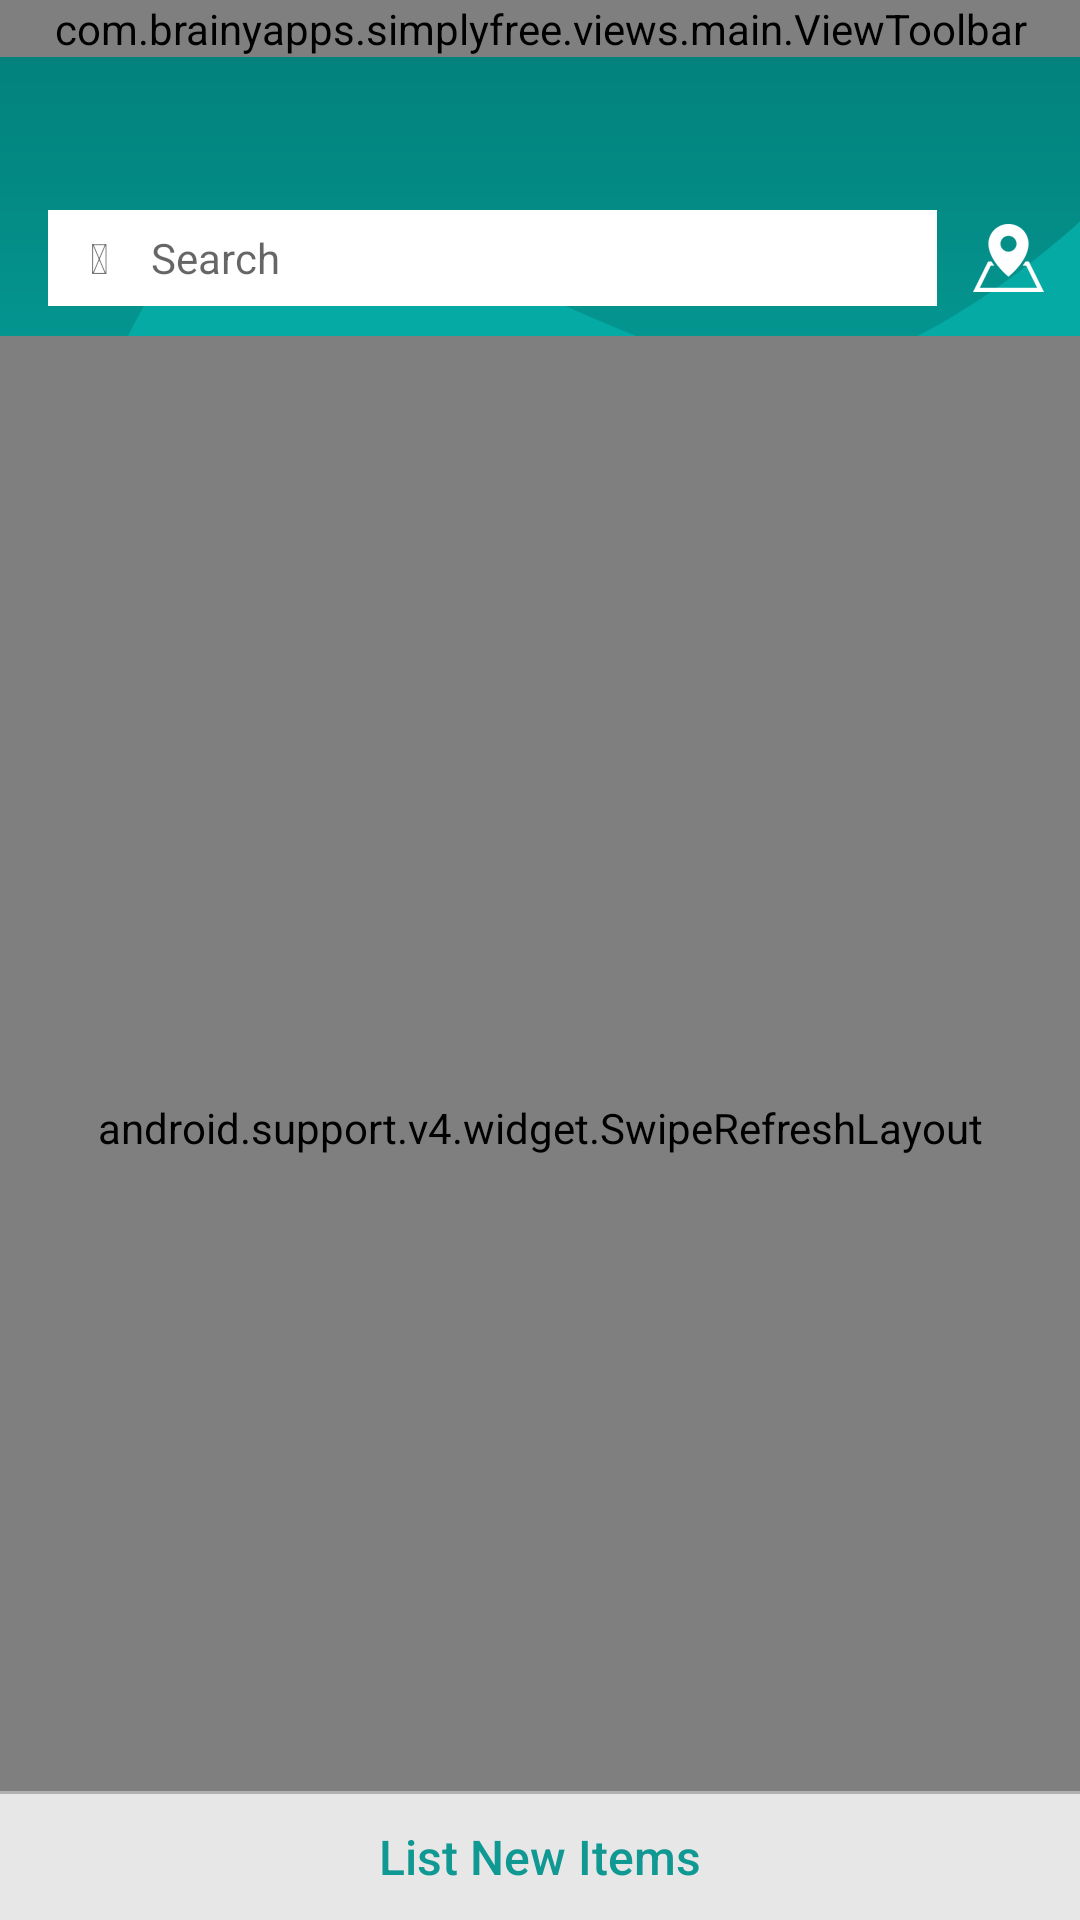

Point at icon controls on the screen. Image size 1080w x 1920h, points as (x=x, y=y).
home map: (x=1008, y=258)
